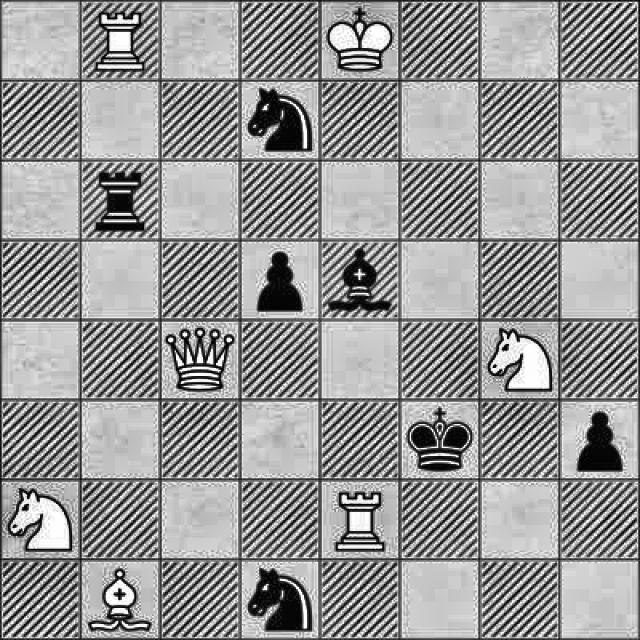Black Knight: (242, 79, 317, 158), (247, 561, 316, 640)
black bishop: (328, 244, 394, 321)
black king: (399, 406, 475, 480)
black pawn: (564, 402, 637, 480), (245, 242, 315, 317)
black rook: (87, 160, 161, 236)
white bishop: (84, 562, 157, 639)
white king: (324, 0, 395, 78)
white queen: (163, 320, 238, 398)
white rook: (324, 479, 400, 559), (83, 5, 162, 79)
whiteknight: (2, 478, 80, 562), (483, 319, 555, 396)
